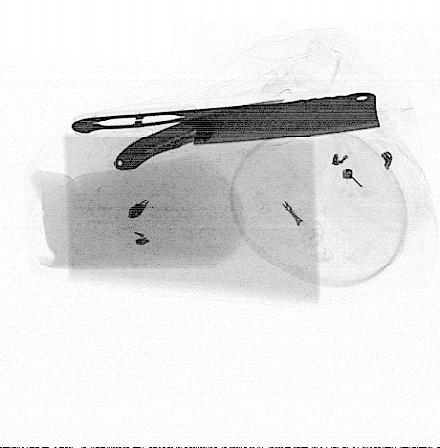Knife: (72, 92, 382, 145), (114, 99, 286, 171)
